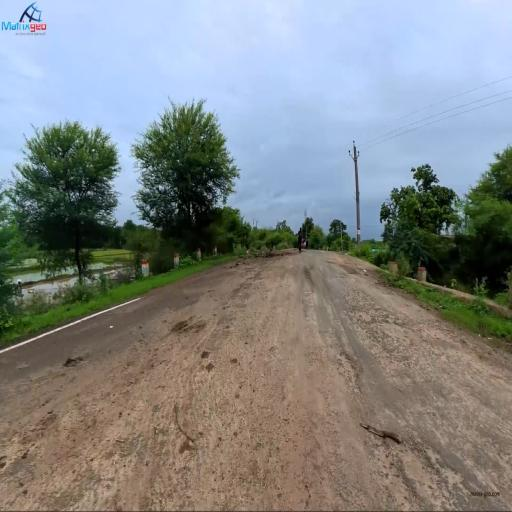ravelling: (166, 311, 417, 471)
